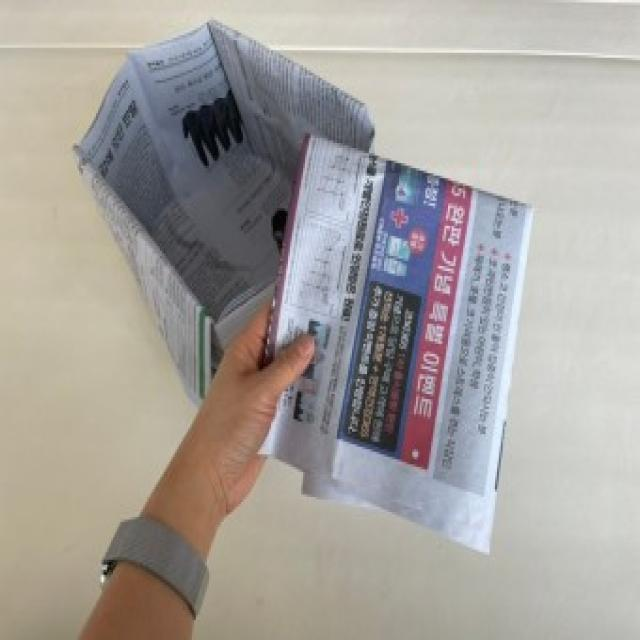Newspaper: (74, 13, 386, 403), (263, 132, 533, 568)
